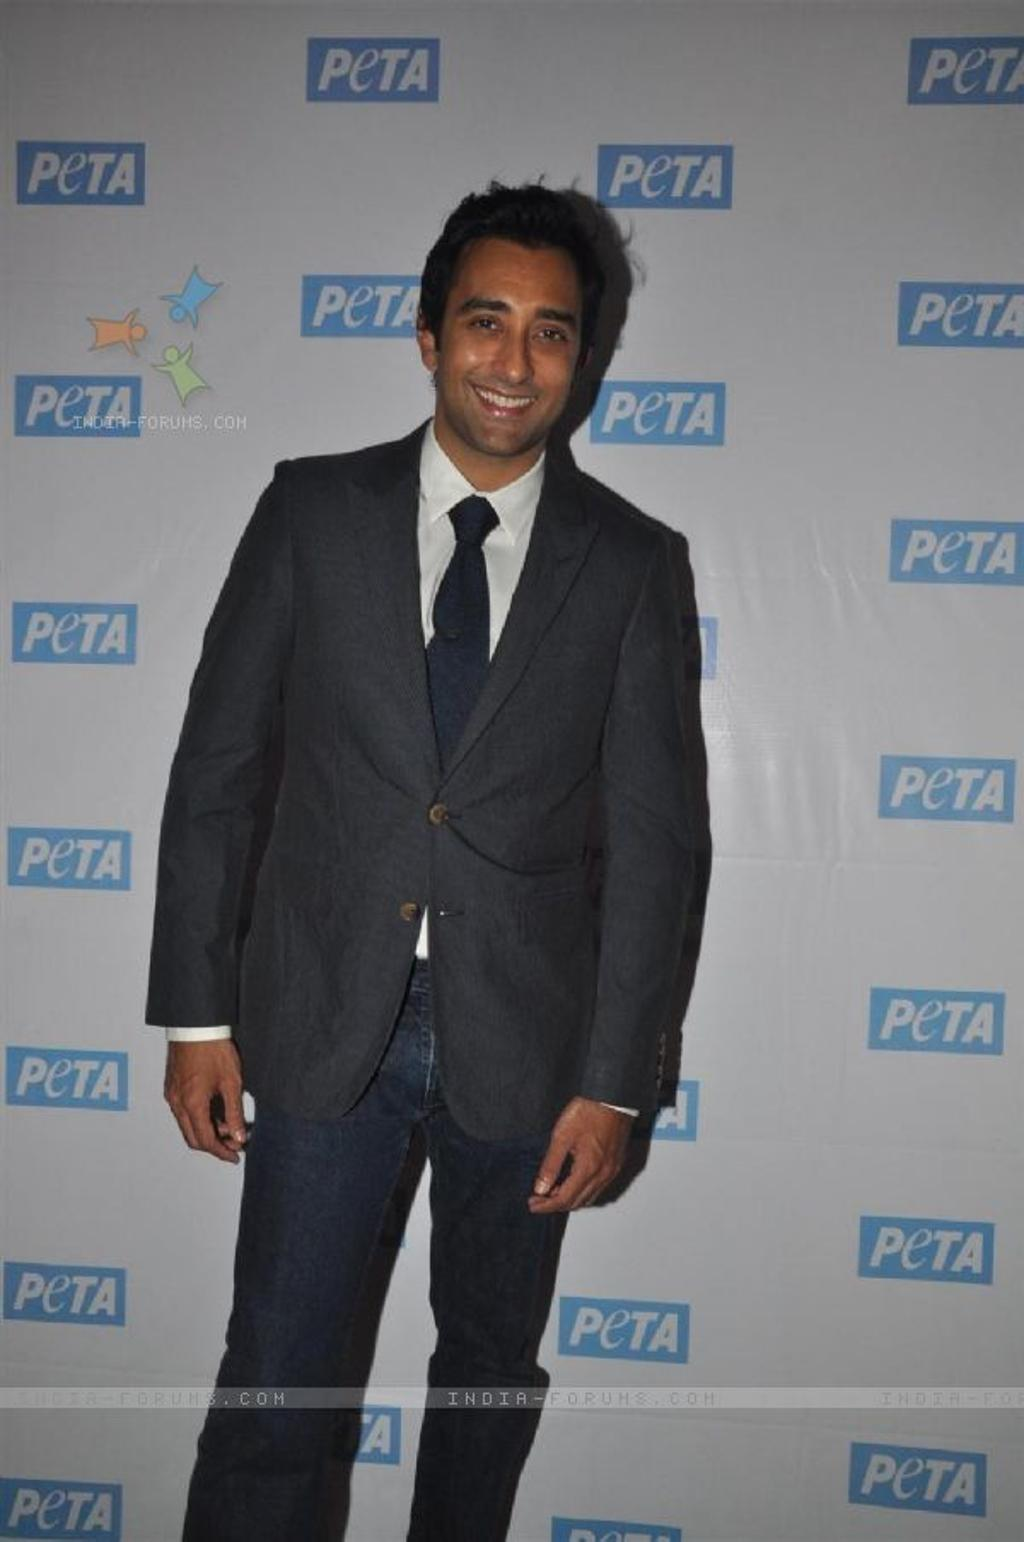face: (434, 226, 591, 452)
